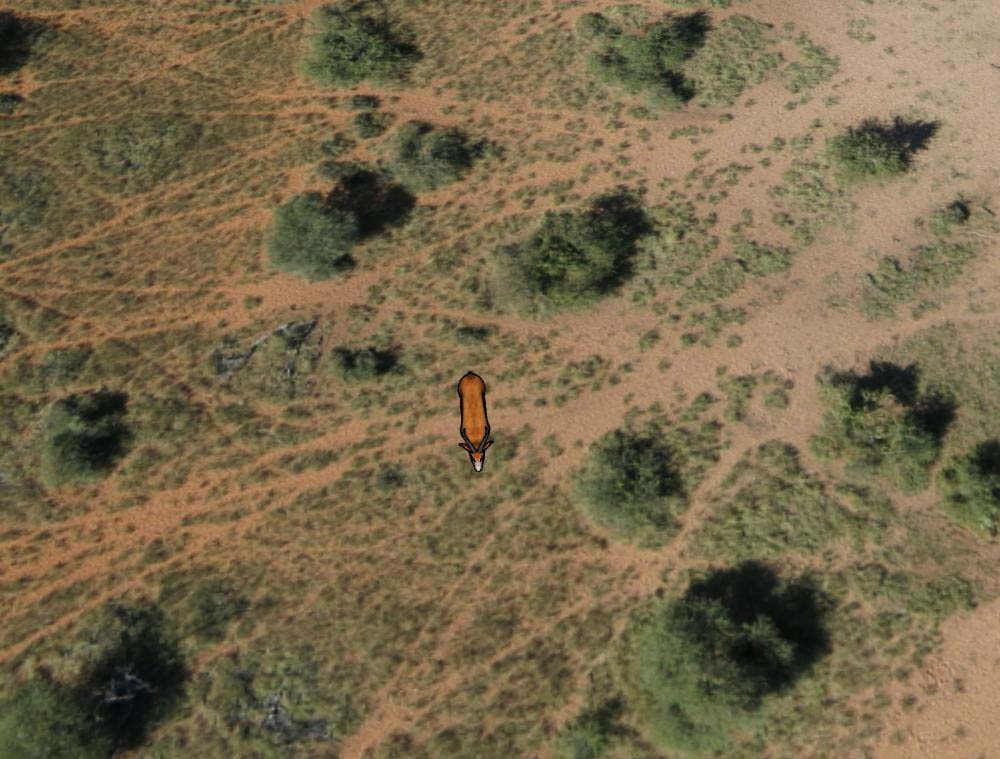springbok: (451, 371, 498, 474)
